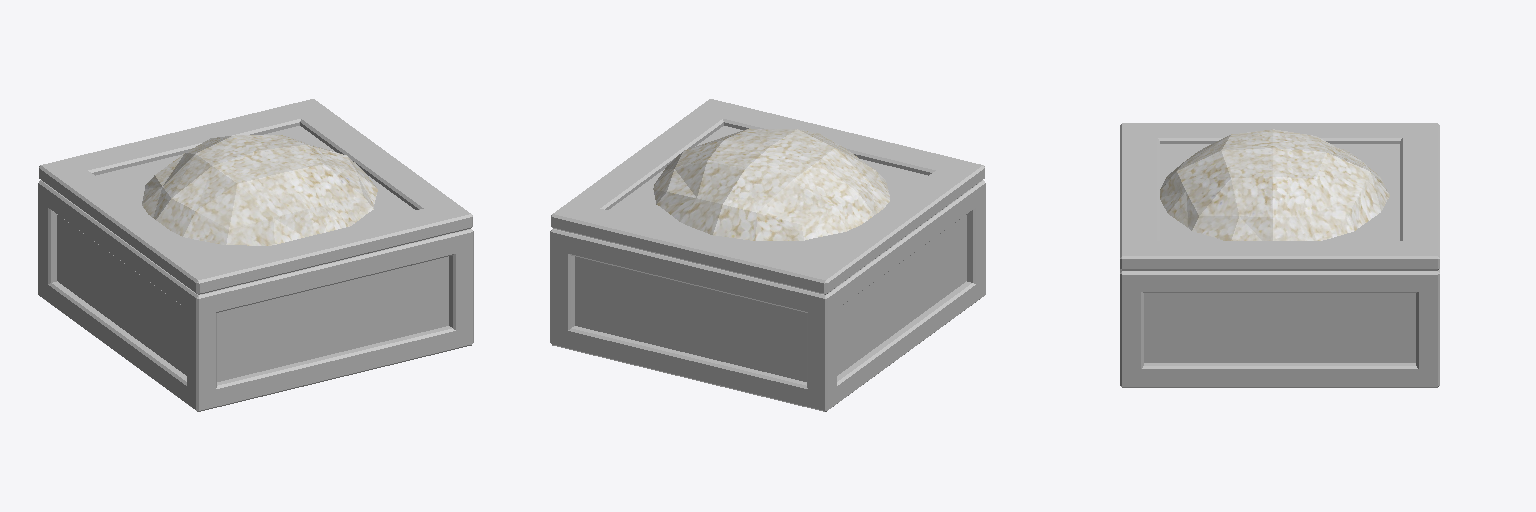
The picture shows the model from 3 angles: view 1: azimuth 30°, elevation 25°; view 2: azimuth 150°, elevation 25°; view 3: azimuth 270°, elevation 25°; orthographic projection.
Parts seen in each view (by area): view 1: Ingredients_Box, Ingredients_Box_Lid, bowl_of_rice; view 2: Ingredients_Box, Ingredients_Box_Lid, bowl_of_rice; view 3: Ingredients_Box, Ingredients_Box_Lid, bowl_of_rice.
Part boxes in pixels (x1,y1,x2,y2): Ingredients_Box: (38, 180, 473, 411); Ingredients_Box_Lid: (39, 99, 472, 294); bowl_of_rice: (142, 135, 377, 245); Ingredients_Box: (550, 180, 985, 411); Ingredients_Box_Lid: (551, 99, 984, 294); bowl_of_rice: (653, 128, 889, 240); Ingredients_Box: (1120, 269, 1439, 387); Ingredients_Box_Lid: (1120, 123, 1439, 270); bowl_of_rice: (1160, 129, 1389, 240).
Size of the model in its own units: 2 by 1.49 by 2.
4 materials, 1 textured.